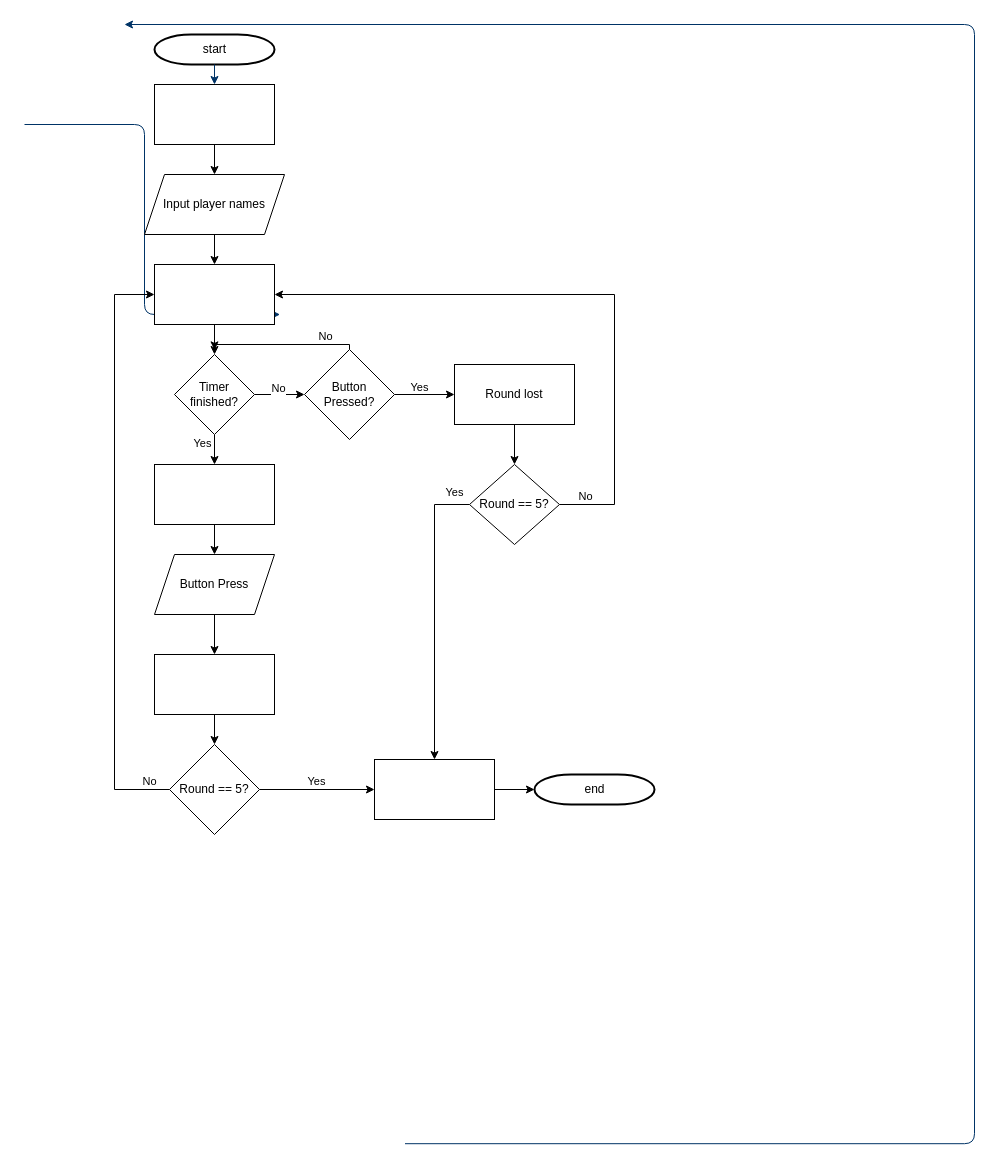
Image size: 1000x1170. Some labels were removed from this diagram. Here are the shapes that lost their labels. From the top down, the centre of each, then its label:
At point (214, 114): "Initialize GPIO Components + Variables".
At point (214, 294): "Calculate random # of seconds + Start timer".
At point (214, 494): "LED + Buzzer set to ON".
At point (214, 684): "Calculate round winner".
At point (434, 789): "Calculate game winner".
